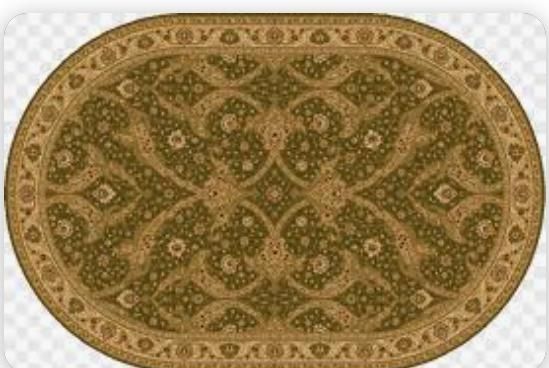carpet: (5, 15, 544, 366)
